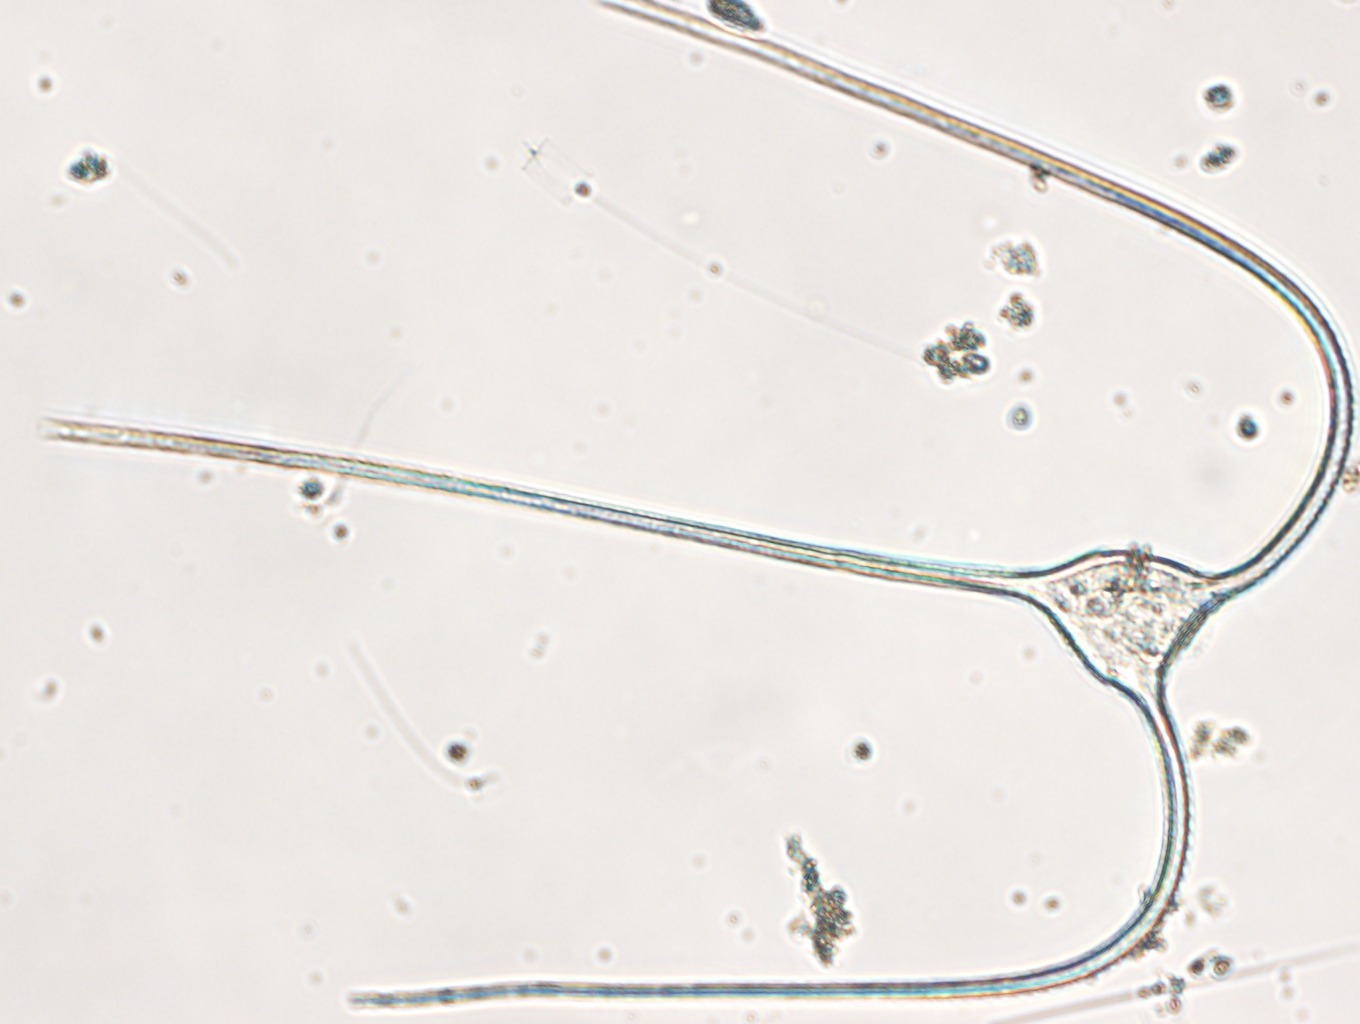ceratium trichoceros: (35, 1, 1360, 1010)
